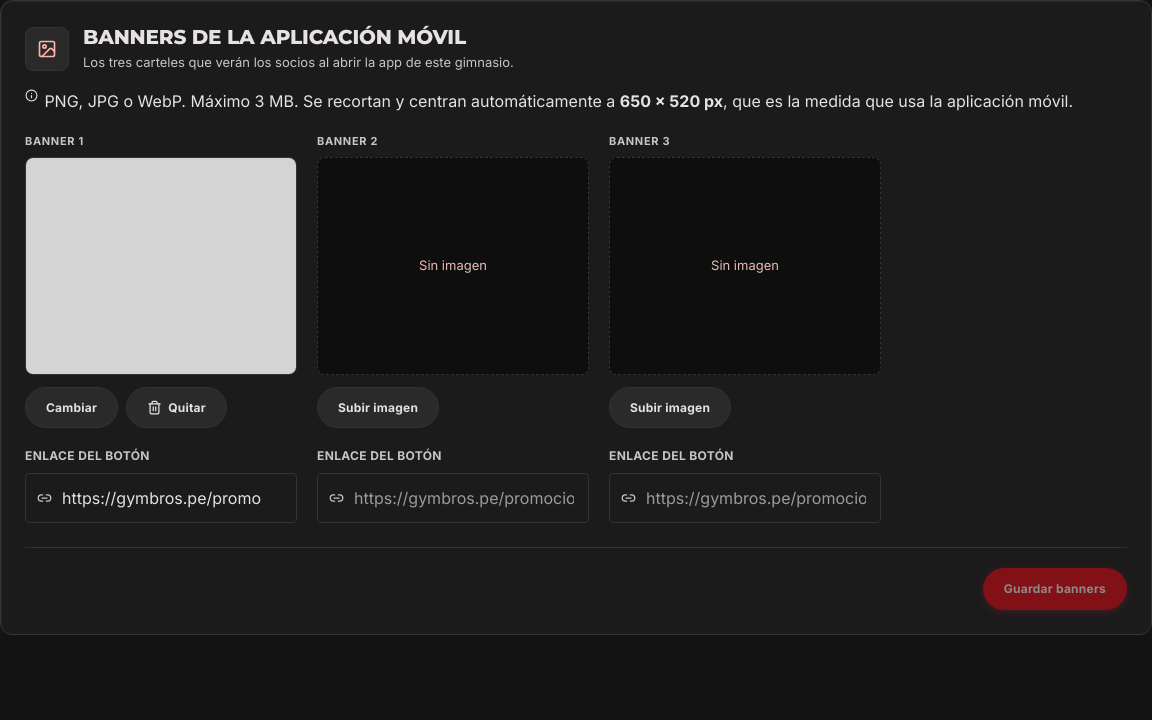
Test: EmpresaBanners › no admite un enlace en un hueco sin imagen
This screenshot has width=1152, height=720.
Type "https://gymbros.pe/sedes" into the field with id "banner-enlace-2" at (453, 498), box [317,473,589,523]
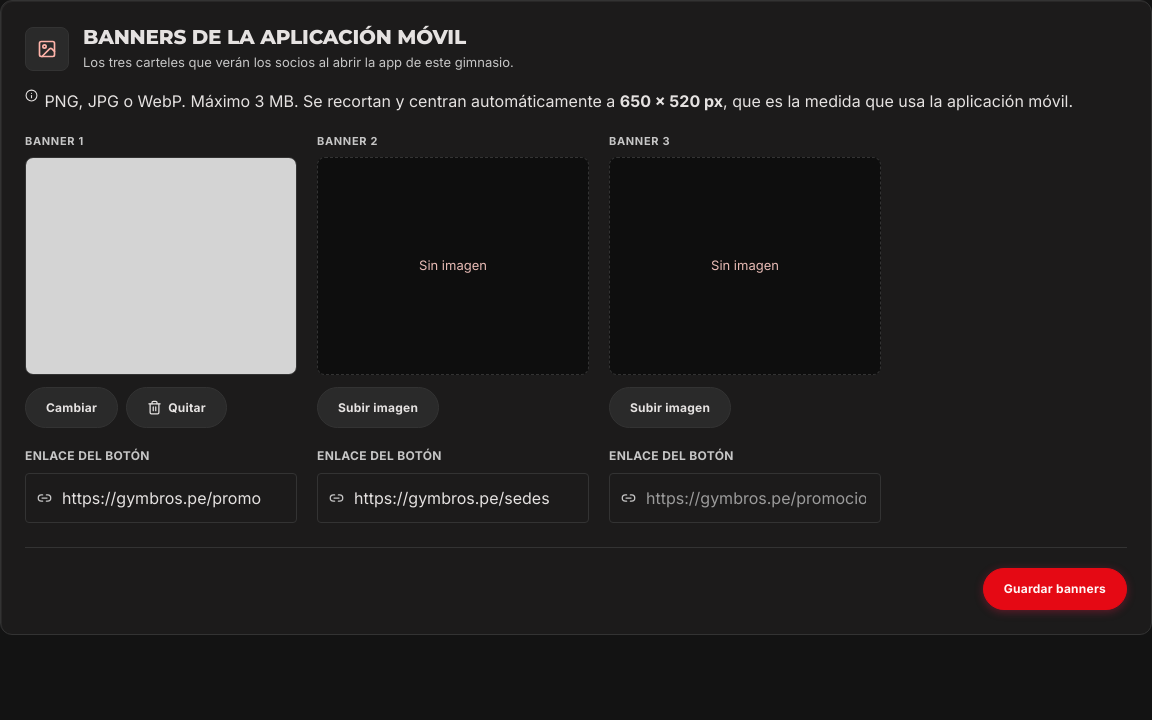
Click the button "Guardar banners" at (1055, 589), box [983,568,1127,610]
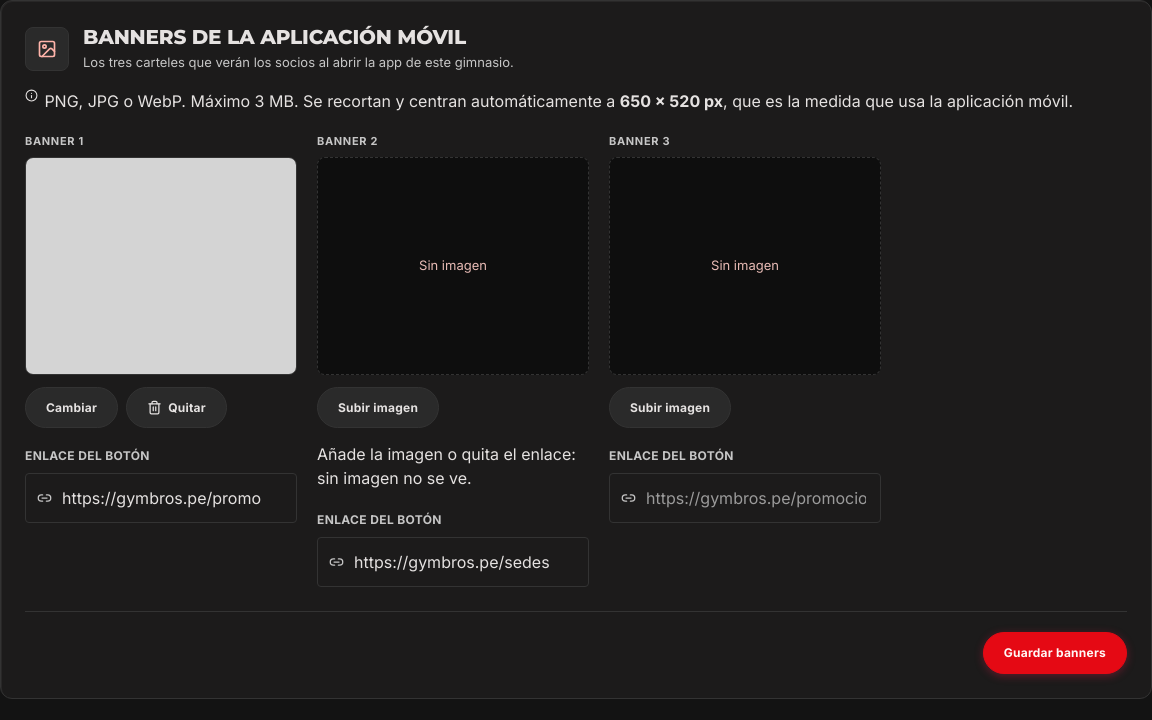
Expected: the text "sin imagen no se ve" is shown, [317,444,576,488]
